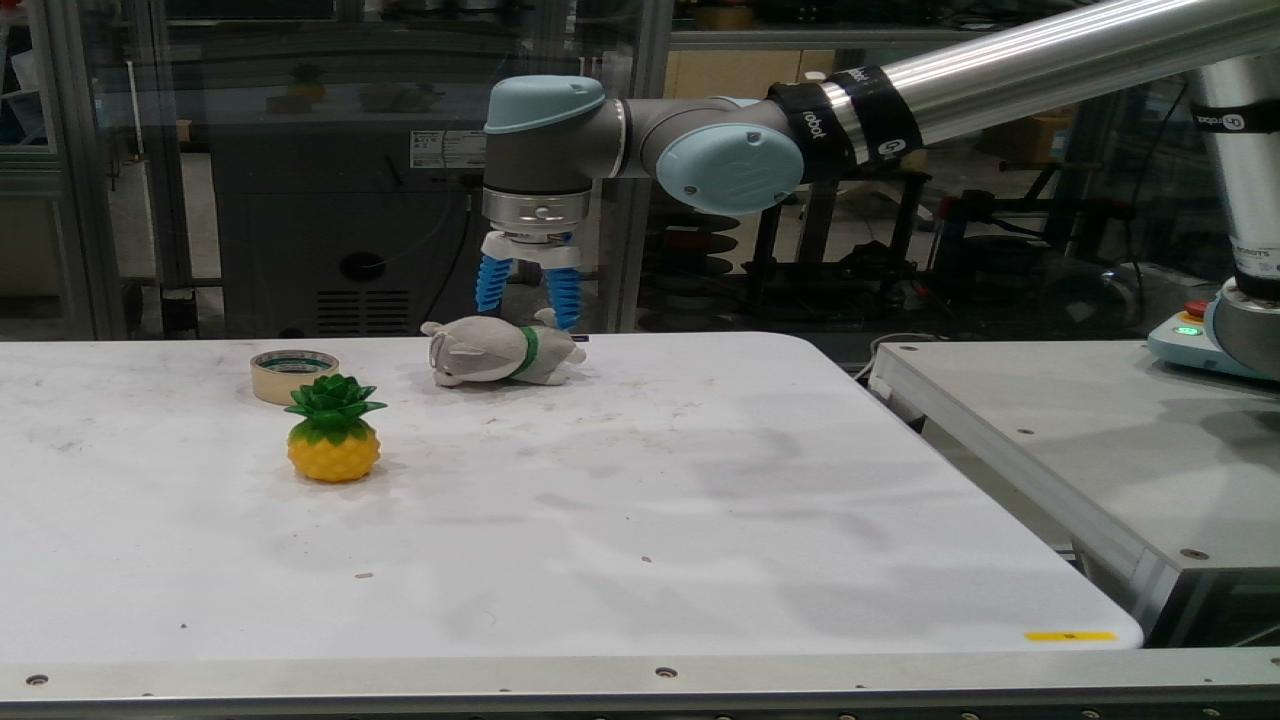UR5: (481, 0, 1279, 380)
gripper_left: (474, 256, 512, 312)
gripper_right: (544, 266, 581, 331)
target: (421, 308, 587, 388), (283, 373, 390, 482), (250, 349, 340, 405)
